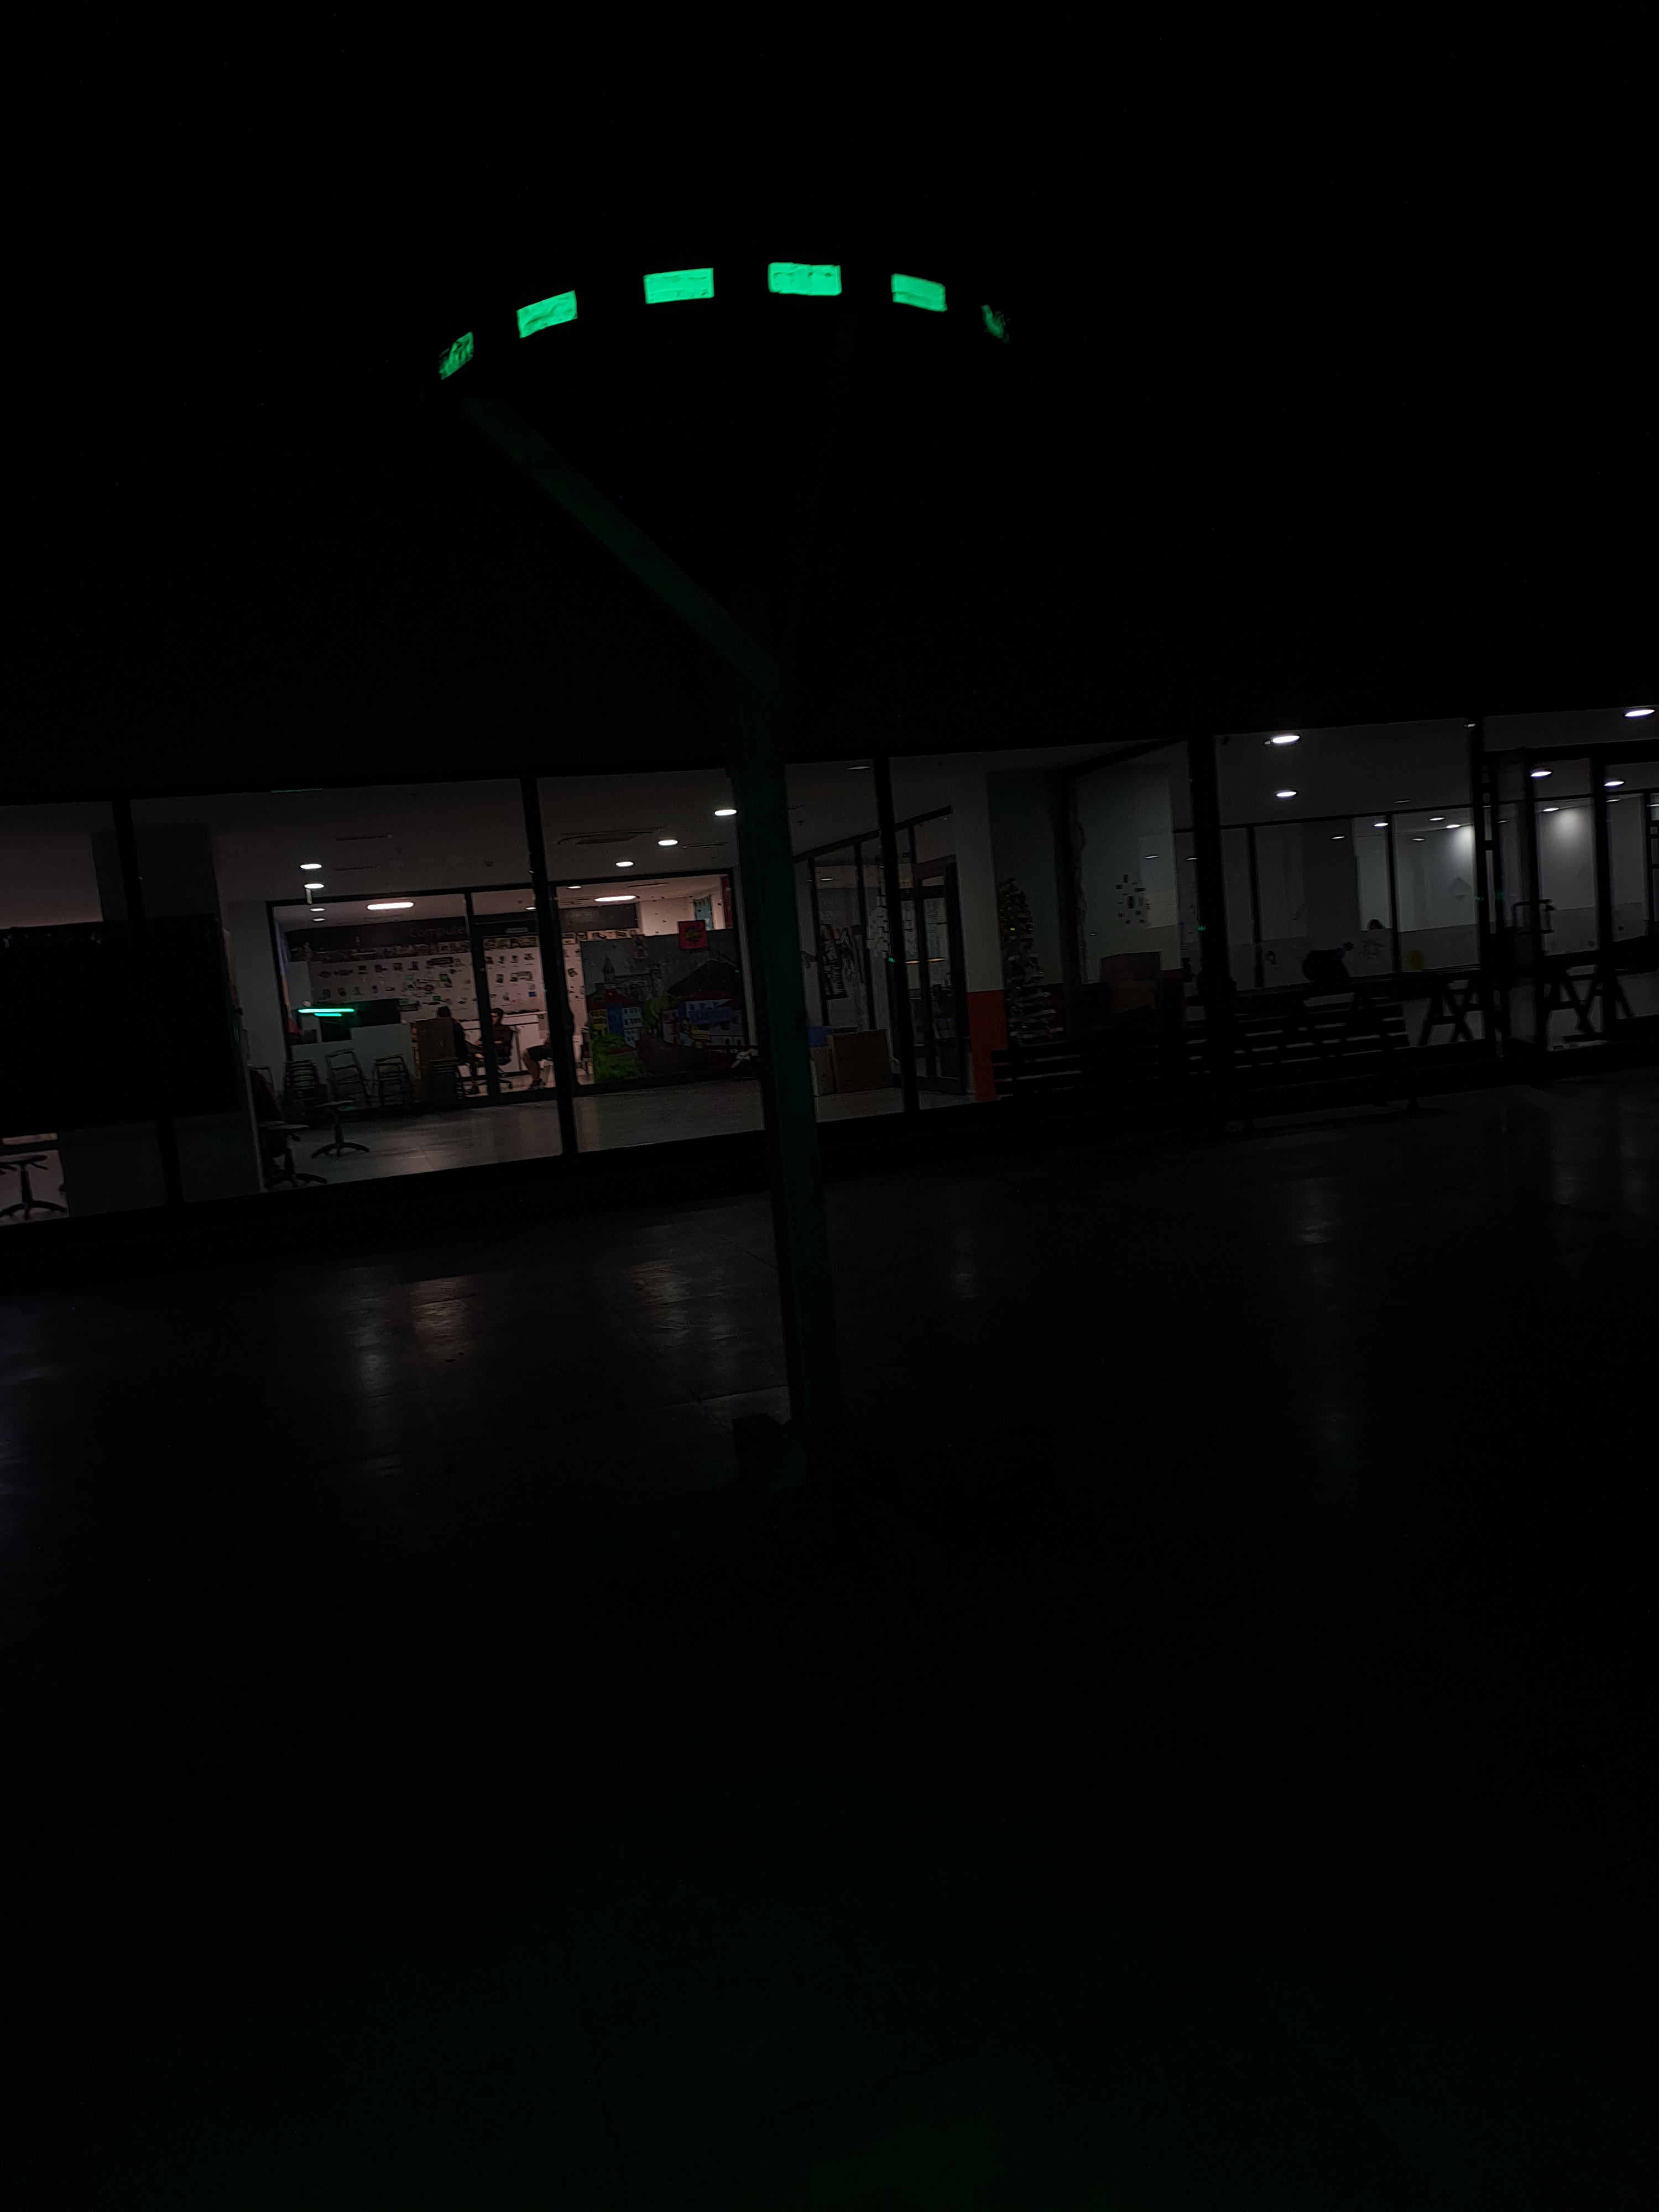hoop: (436, 261, 1016, 387)
